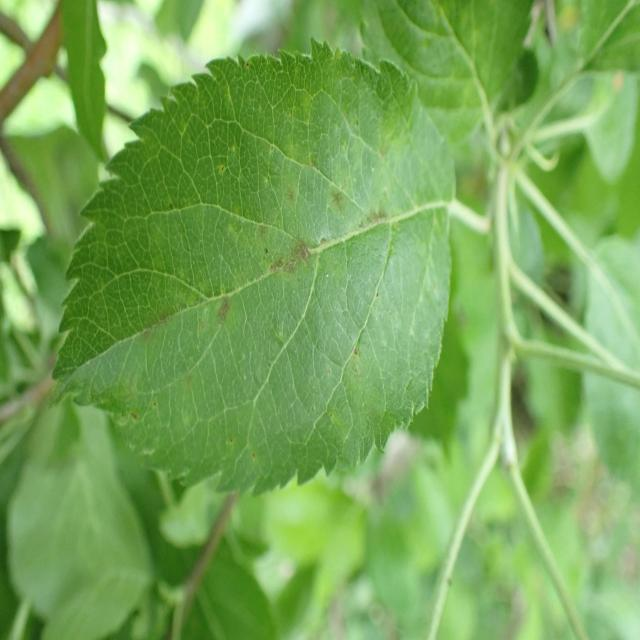scab: (91, 160, 465, 428)
